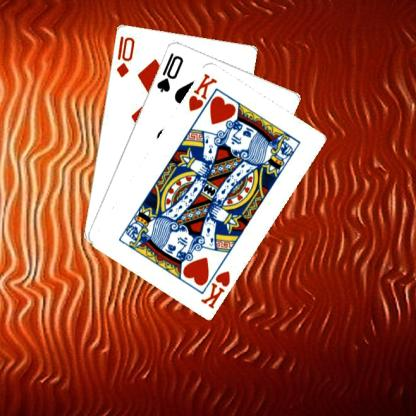10D: (113, 33, 136, 78)
10S: (154, 49, 184, 94)
KH: (185, 70, 218, 113), (198, 268, 231, 309)
